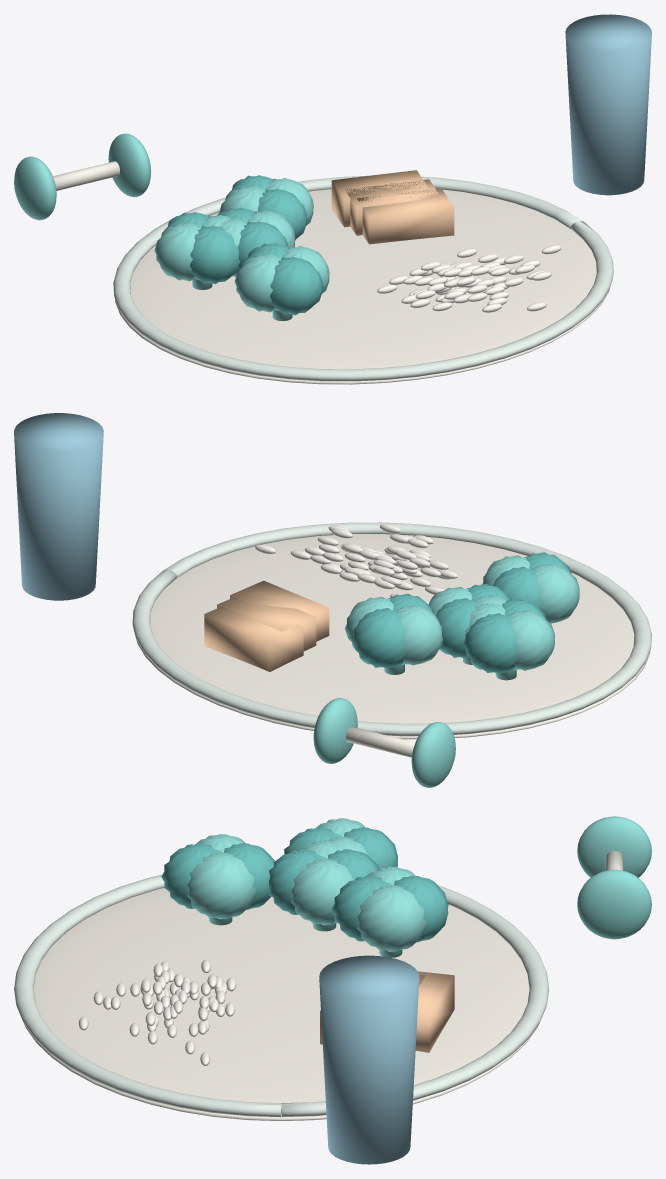
Rendered from nutrition-recovery.glb.
3 views of the same model, one above another, from view 1: azimuth 30°, elevation 25°; view 2: azimuth 150°, elevation 25°; view 3: azimuth 270°, elevation 25° (orthographic). The views are drawn at different scales.
Parts seen in each view (by area): view 1: static #eee5d3, static #5596b7, static #c7ddd2, static #49bdb4, static #258985, static #f2a066, static #f8f1e4; view 2: static #eee5d3, static #5596b7, static #c7ddd2, static #49bdb4, static #258985, static #f2a066, static #f8f1e4; view 3: static #eee5d3, static #49bdb4, static #5596b7, static #c7ddd2, static #258985, static #f8f1e4, static #f2a066.
Part boxes in pixels (<box>): static #eee5d3: <box>53,161,612,384</box>; static #5596b7: <box>565,14,651,195</box>; static #c7ddd2: <box>113,175,613,381</box>; static #49bdb4: <box>14,133,329,320</box>; static #258985: <box>164,175,322,315</box>; static #f2a066: <box>331,170,454,244</box>; static #f8f1e4: <box>377,245,561,312</box>; static #eee5d3: <box>133,534,650,757</box>; static #5596b7: <box>14,413,103,600</box>; static #c7ddd2: <box>132,522,651,736</box>; static #49bdb4: <box>313,555,579,787</box>; static #258985: <box>352,552,571,673</box>; static #f2a066: <box>204,580,329,671</box>; static #f8f1e4: <box>255,524,457,597</box>; static #eee5d3: <box>24,851,623,1121</box>; static #49bdb4: <box>187,816,651,957</box>; static #5596b7: <box>319,955,419,1164</box>; static #c7ddd2: <box>14,874,549,1117</box>; static #258985: <box>161,827,448,942</box>; static #f8f1e4: <box>78,959,236,1065</box>; static #f2a066: <box>320,971,454,1052</box>.
Size of the model in its own units: 0.4045 by 0.1185 by 0.3564.
